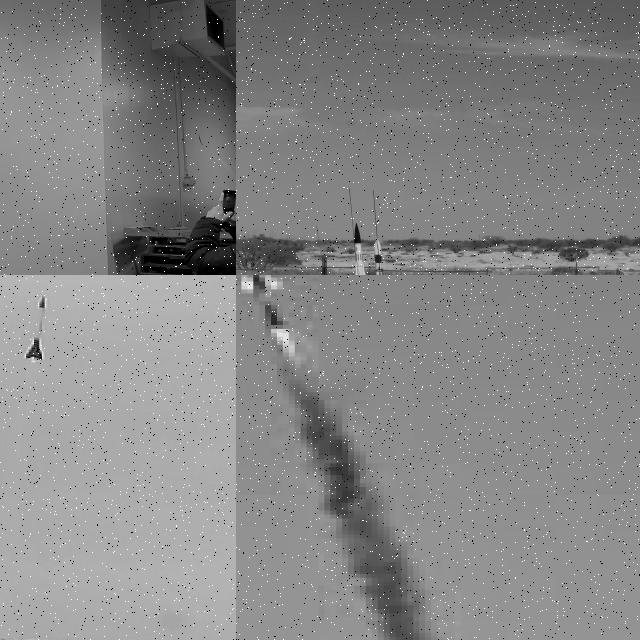Rocket: (23, 295, 48, 361), (351, 222, 372, 275), (372, 237, 393, 275)
